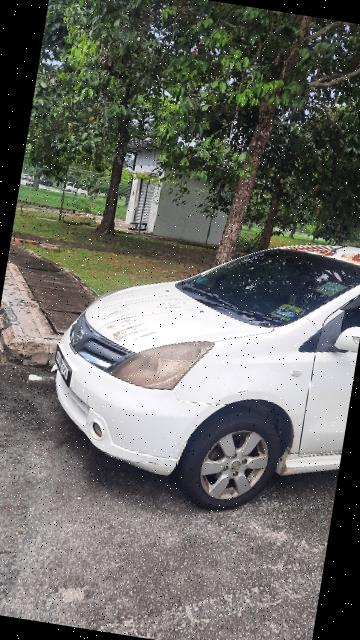License_Plate: (50, 342, 80, 390)
car: (26, 175, 360, 542)
